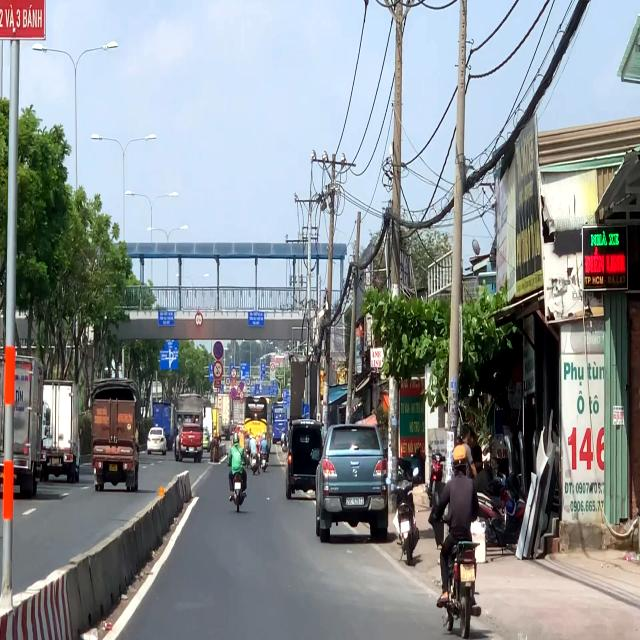P.117: (194, 312, 203, 327)
P.130: (213, 341, 224, 360)
